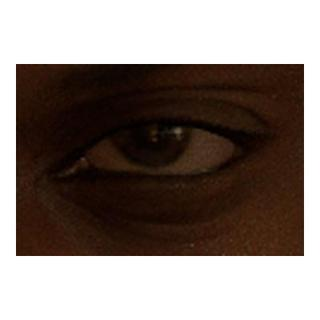pupil: (133, 109, 170, 146)
